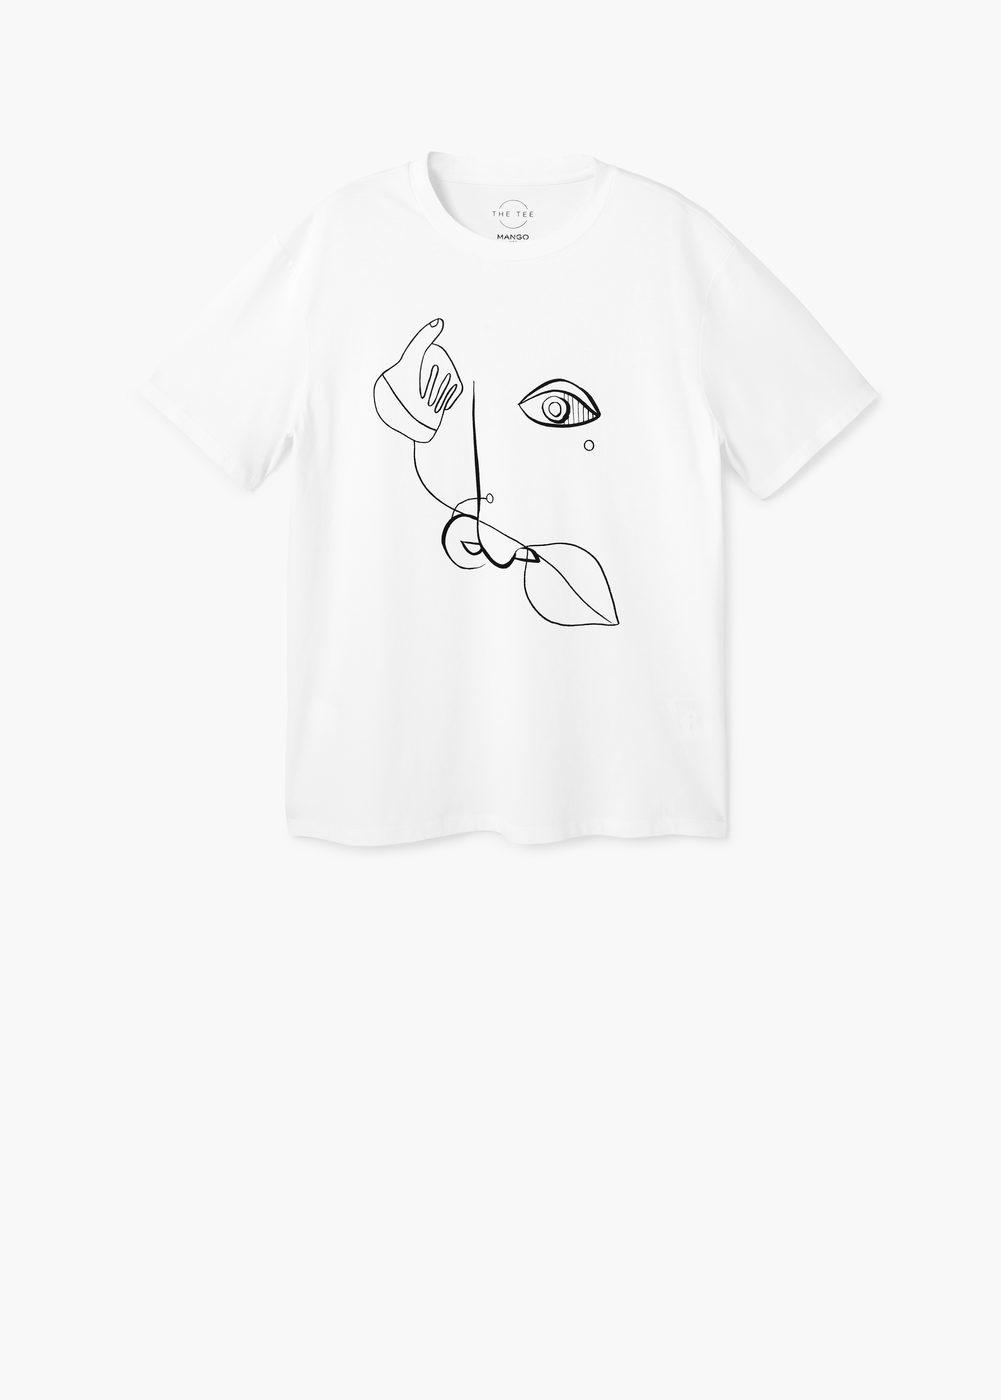teeshirt: (146, 123, 882, 897)
